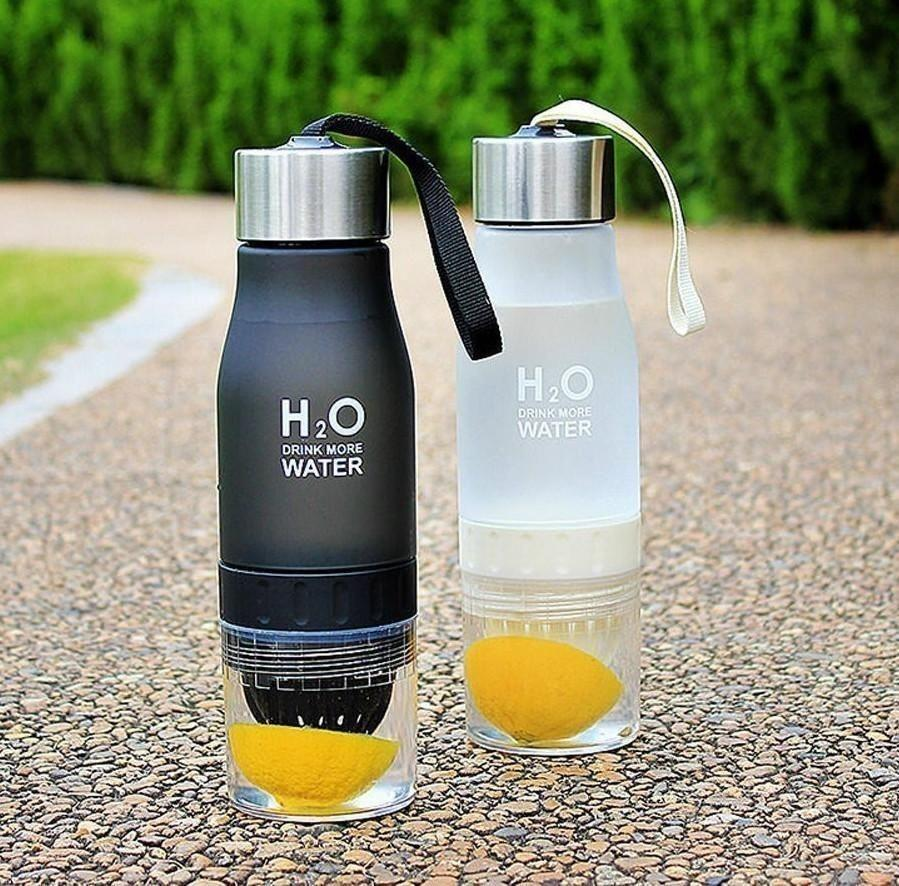gym bottle: (209, 120, 496, 828), (444, 98, 708, 764)
